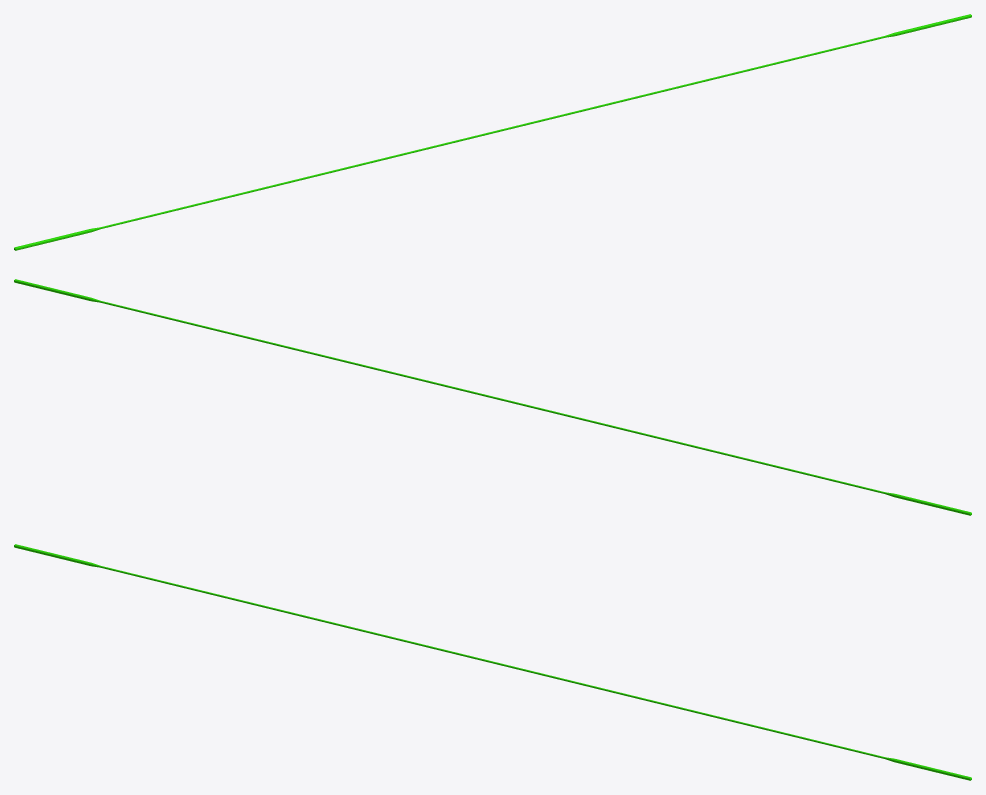
File: Hyperspace Channel.fbx
3 renders of one model, top to bottom at view 1: azimuth 30°, elevation 25°; view 2: azimuth 150°, elevation 25°; view 3: azimuth 330°, elevation 25°, orthographic.
Visible parts, largest first — view 1: Cube; view 2: Cube; view 3: Cube.
Part boxes in pixels (bbox=[...]): Cube: bbox=[14, 14, 971, 250]; Cube: bbox=[14, 279, 971, 515]; Cube: bbox=[14, 544, 971, 780].
Size of the model in its own units: 1584 by 4.55 by 4.55.
